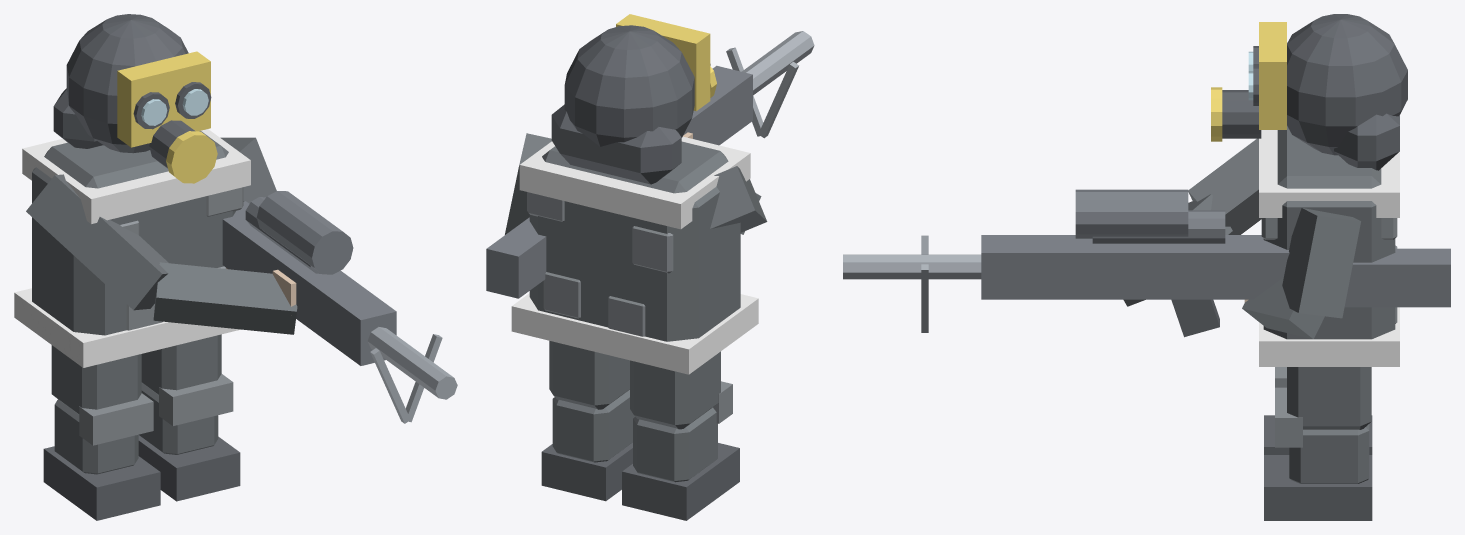
File: hunter@toxico.glb
3 renders of one model, left to right at view 1: azimuth 30°, elevation 25°; view 2: azimuth 150°, elevation 25°; view 3: azimuth 270°, elevation 25°, orthographic. The views are drawn at different scales.
Visible parts, largest first — view 1: main, shinl, shinr, legl, legr; view 2: main, shinl, shinr, legl, legr; view 3: main, shinr, legr, shinl.
Part boxes in pixels (x1,y1,x2,y2): main: (14, 14, 457, 423); shinl: (43, 393, 160, 520); shinr: (138, 374, 240, 501); legl: (51, 345, 141, 414); legr: (141, 334, 221, 394); main: (486, 14, 814, 374); shinl: (622, 381, 739, 520); shinr: (541, 389, 635, 501); legl: (630, 351, 720, 429); legr: (549, 341, 629, 409); main: (843, 14, 1450, 366); shinr: (1264, 387, 1372, 520); legr: (1287, 367, 1371, 429); shinl: (1264, 367, 1372, 454).
Bounding box in the file's own units: 0.3161 × 0.5462 × 0.6464.
